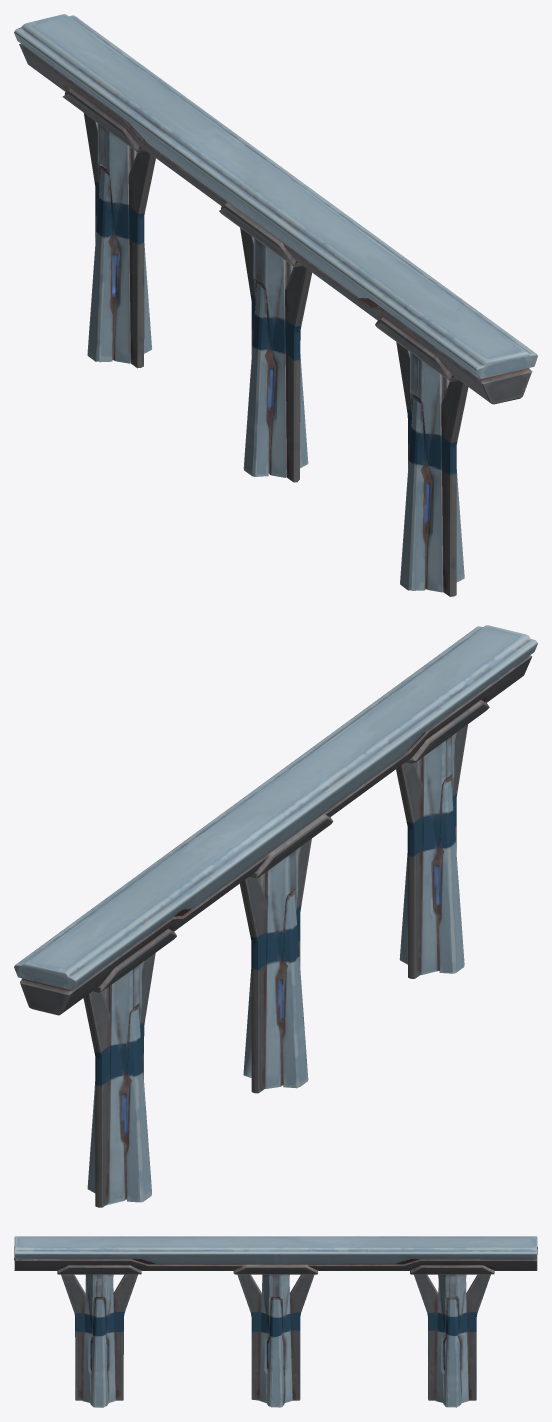
Rendered from Railing_Tek_C.glb.
3 views of the same model, one above another, from view 1: azimuth 30°, elevation 25°; view 2: azimuth 150°, elevation 25°; view 3: azimuth 270°, elevation 25° (orthographic). The views are drawn at different scales.
Visible parts, largest first — view 1: SM_Tek_RailingVertical; view 2: SM_Tek_RailingVertical; view 3: SM_Tek_RailingVertical.
Part boxes in pixels (x1,y1,x2,y2): SM_Tek_RailingVertical: (14,14,537,596); SM_Tek_RailingVertical: (14,625,537,1207); SM_Tek_RailingVertical: (14,1236,537,1407).
Size of the model in its own units: 0.2312 by 1.01 by 3.01.
1 material, 1 textured.
